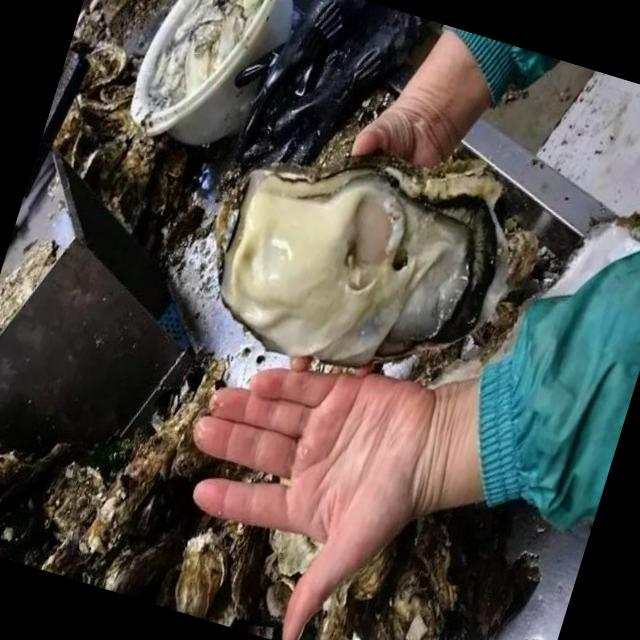Oyster-Open: (213, 152, 512, 370)
